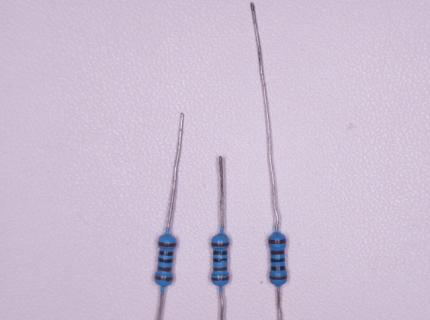Black band: (158, 257, 173, 264), (159, 250, 174, 256), (270, 265, 285, 271), (213, 258, 228, 263), (213, 250, 228, 255), (270, 258, 285, 262)
Brown band: (157, 241, 176, 248), (268, 238, 287, 245), (154, 276, 173, 281), (211, 276, 230, 281), (157, 266, 172, 272), (213, 267, 228, 272), (211, 243, 229, 247), (269, 276, 287, 280), (270, 251, 285, 255)
